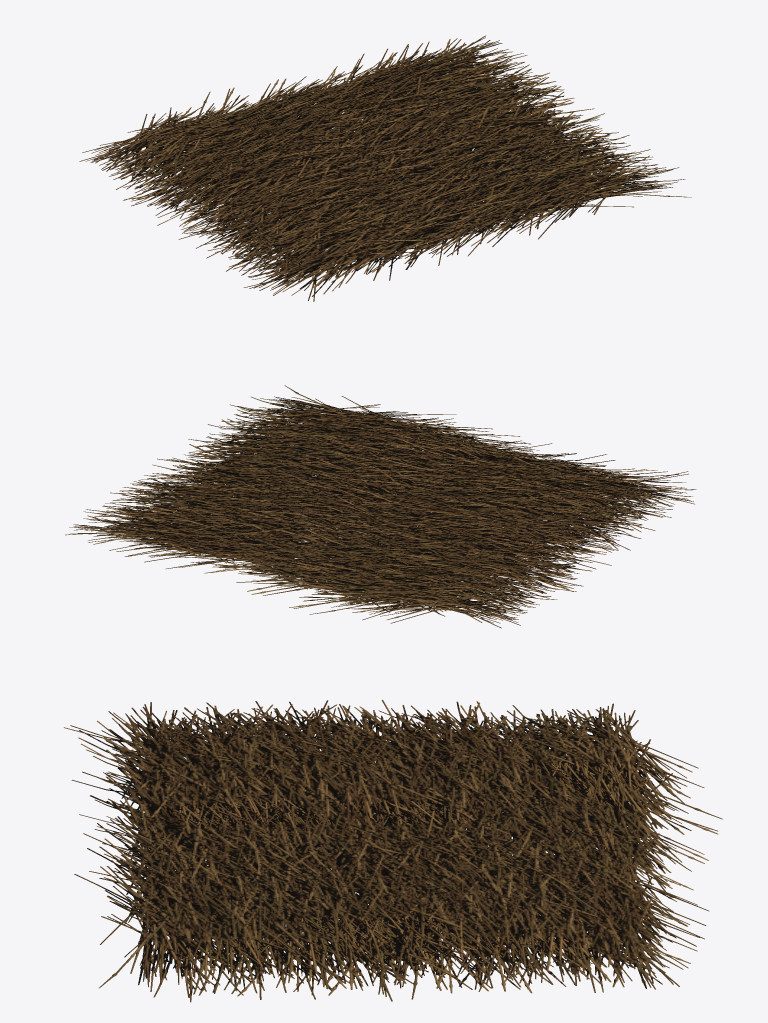
The model's file is Hay3.fbx.
3 views of the same model, one above another, from view 1: azimuth 30°, elevation 25°; view 2: azimuth 150°, elevation 25°; view 3: azimuth 270°, elevation 25° (orthographic). The views are drawn at different scales.
Parts seen in each view (by area): view 1: Plane; view 2: Plane; view 3: Plane.
Boxes of the visible parts, <box> form: Plane: <box>79,35,691,301</box>; Plane: <box>65,385,696,628</box>; Plane: <box>64,699,722,1002</box>.
Bounding box in the file's own units: 200 × 5.04 × 200.
